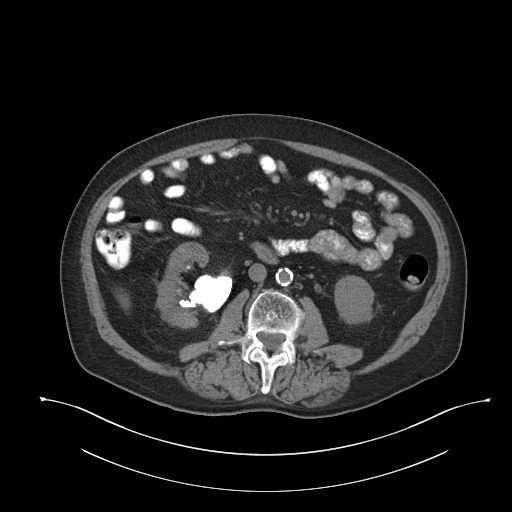Lesion: (177, 269, 238, 315)
